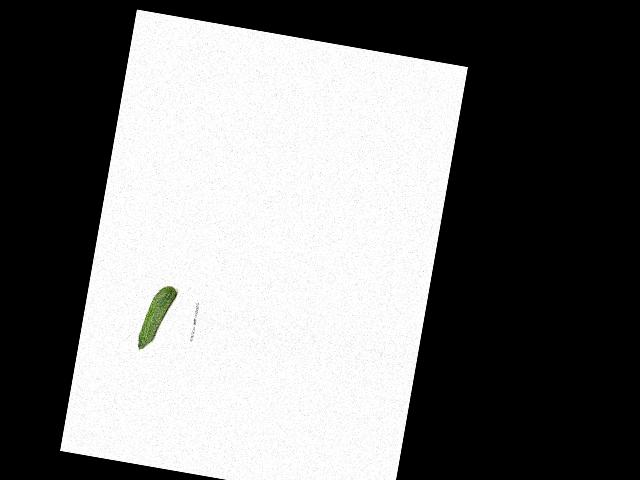cucumber: (136, 283, 177, 355)
